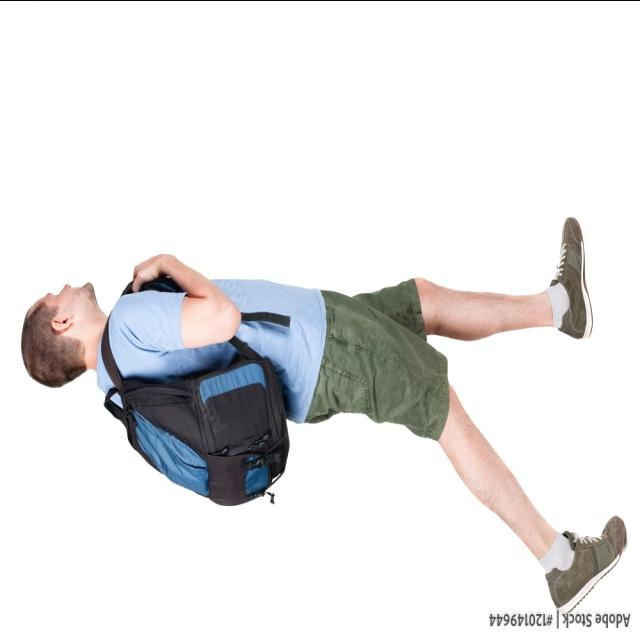backpack: (101, 278, 291, 508)
